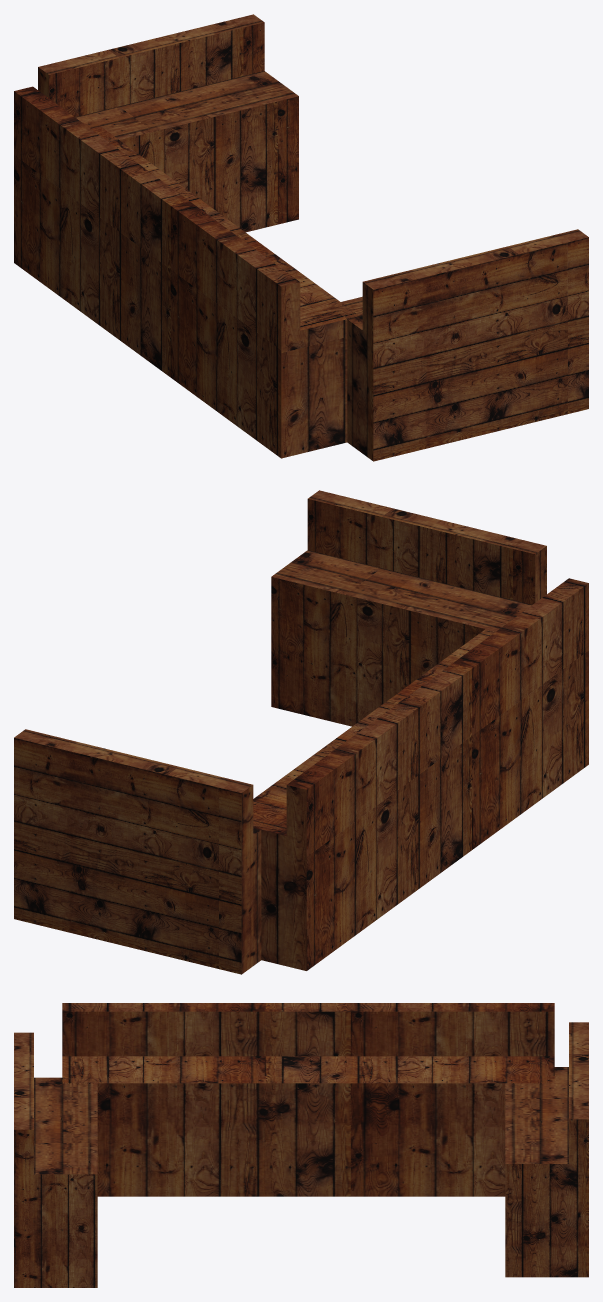
Rendered from tavern_195.gltf.
The picture shows the model from 3 angles, top to bottom: view 1: azimuth 30°, elevation 25°; view 2: azimuth 150°, elevation 25°; view 3: azimuth 270°, elevation 25°; orthographic projection. The views are drawn at different scales.
Visible parts, largest first — view 1: Box123_Material #170_0.020; view 2: Box123_Material #170_0.020; view 3: Box123_Material #170_0.020.
Boxes of the visible parts, x1,y1,x2,y2 form: Box123_Material #170_0.020: [14, 14, 588, 461]; Box123_Material #170_0.020: [14, 490, 588, 974]; Box123_Material #170_0.020: [14, 1003, 588, 1287].
Bounding box in the file's own units: 23.43 × 13.66 × 44.99.
